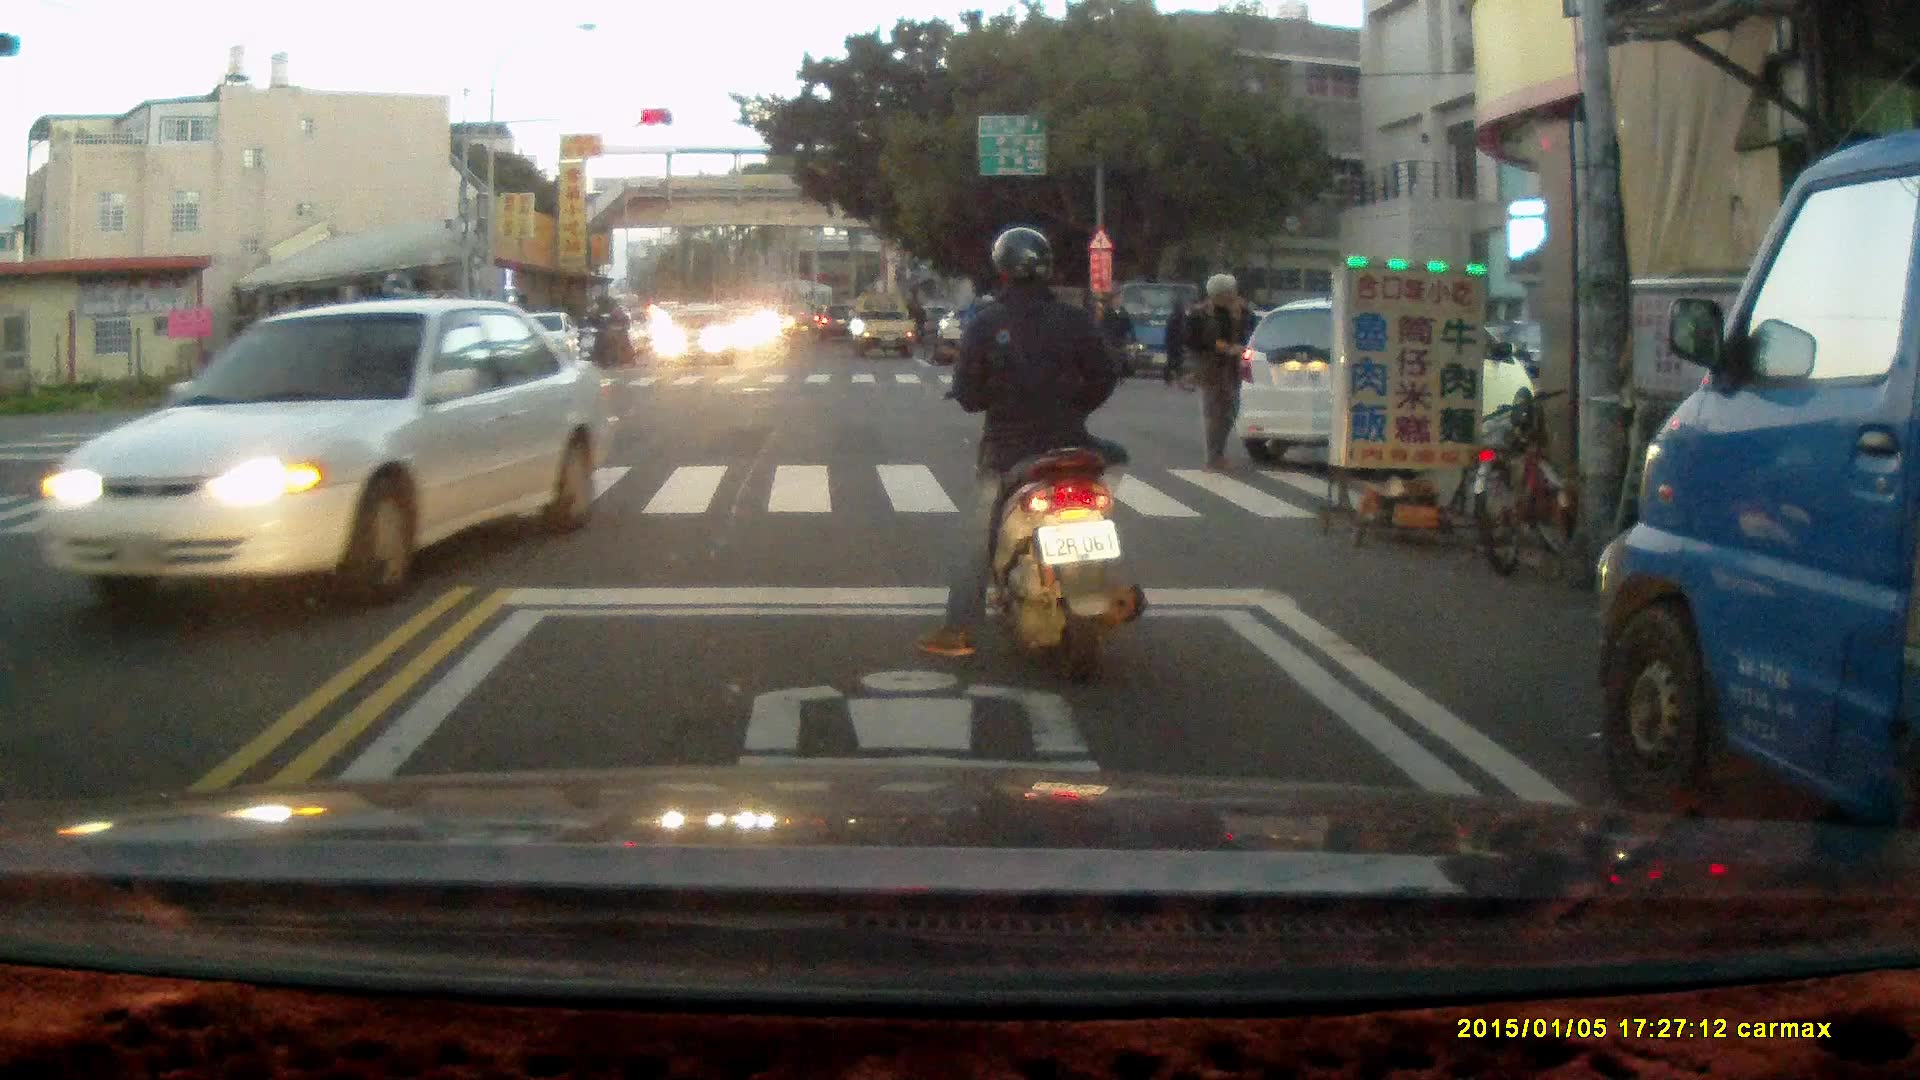pedestrian: (1185, 271, 1251, 473), (1098, 292, 1139, 391), (1162, 293, 1196, 391)
rider: (918, 228, 1149, 686), (593, 300, 631, 368), (577, 301, 612, 372)
vehicle: (1596, 120, 1920, 901), (40, 295, 608, 608), (1236, 303, 1533, 462), (658, 300, 740, 372), (852, 292, 920, 362)
